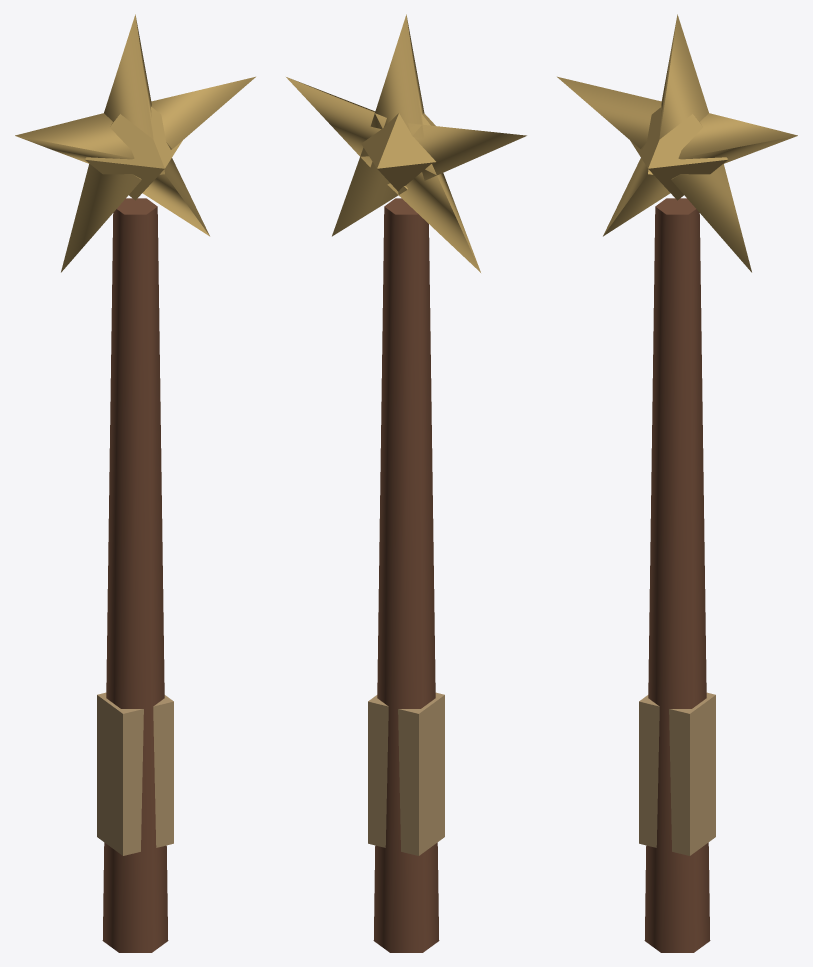
The model's file is fixed-staff-lod1.glb.
3 views of the same model, side by side, from view 1: azimuth 30°, elevation 25°; view 2: azimuth 150°, elevation 25°; view 3: azimuth 330°, elevation 25° (orthographic).
Parts seen in each view (by area): view 1: piece_whole; view 2: piece_whole; view 3: piece_whole.
Boxes of the visible parts, box(x1,y1,x2,y2) form: piece_whole: box(15, 14, 255, 952); piece_whole: box(286, 14, 526, 952); piece_whole: box(557, 14, 797, 952).
Bounding box in the file's own units: 0.428 × 1.56 × 0.18.
